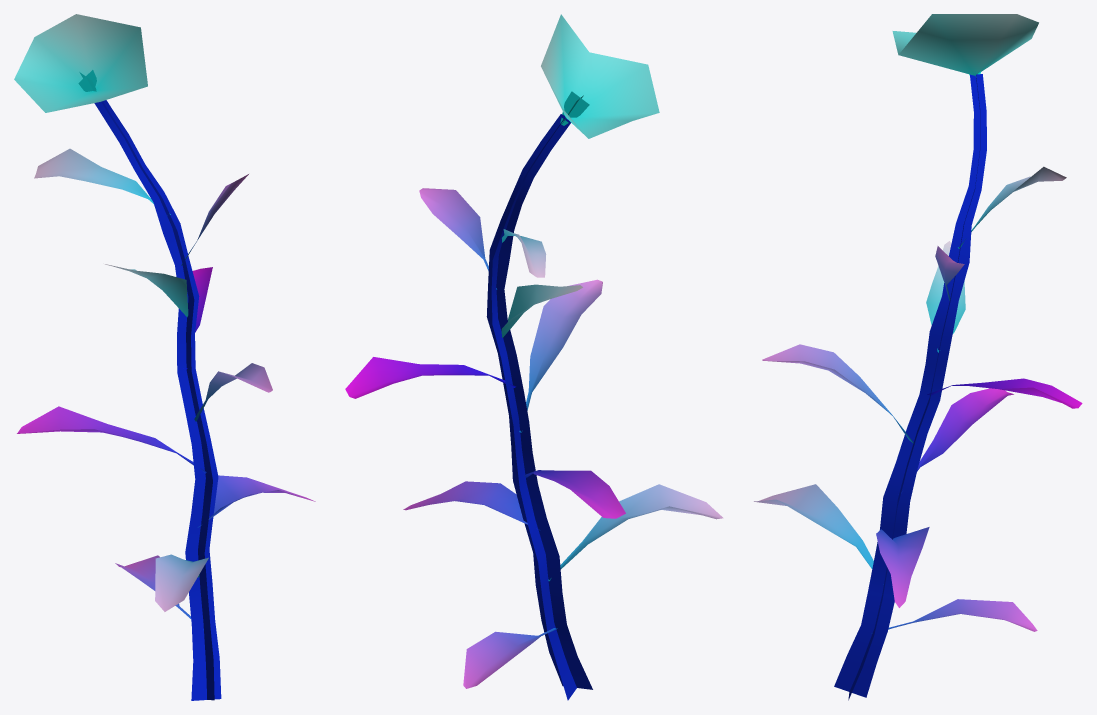
Rendered from Field_Poppy_vmcobd0ja_Low_vmcobd0ja_VarA_LOD0.fbx.
3 renders of one model, left to right at view 1: azimuth 30°, elevation 25°; view 2: azimuth 150°, elevation 25°; view 3: azimuth 270°, elevation 25°, orthographic. The views are drawn at different scales.
Visible parts, largest first — view 1: _200u_VarA_LOD2; view 2: _200u_VarA_LOD2; view 3: _200u_VarA_LOD2.
Part boxes in pixels (bbox=[...]): _200u_VarA_LOD2: bbox=[14, 14, 315, 700]; _200u_VarA_LOD2: bbox=[345, 14, 723, 700]; _200u_VarA_LOD2: bbox=[754, 14, 1082, 700].
Size of the model in its own units: 27.29 by 66.75 by 29.78.
